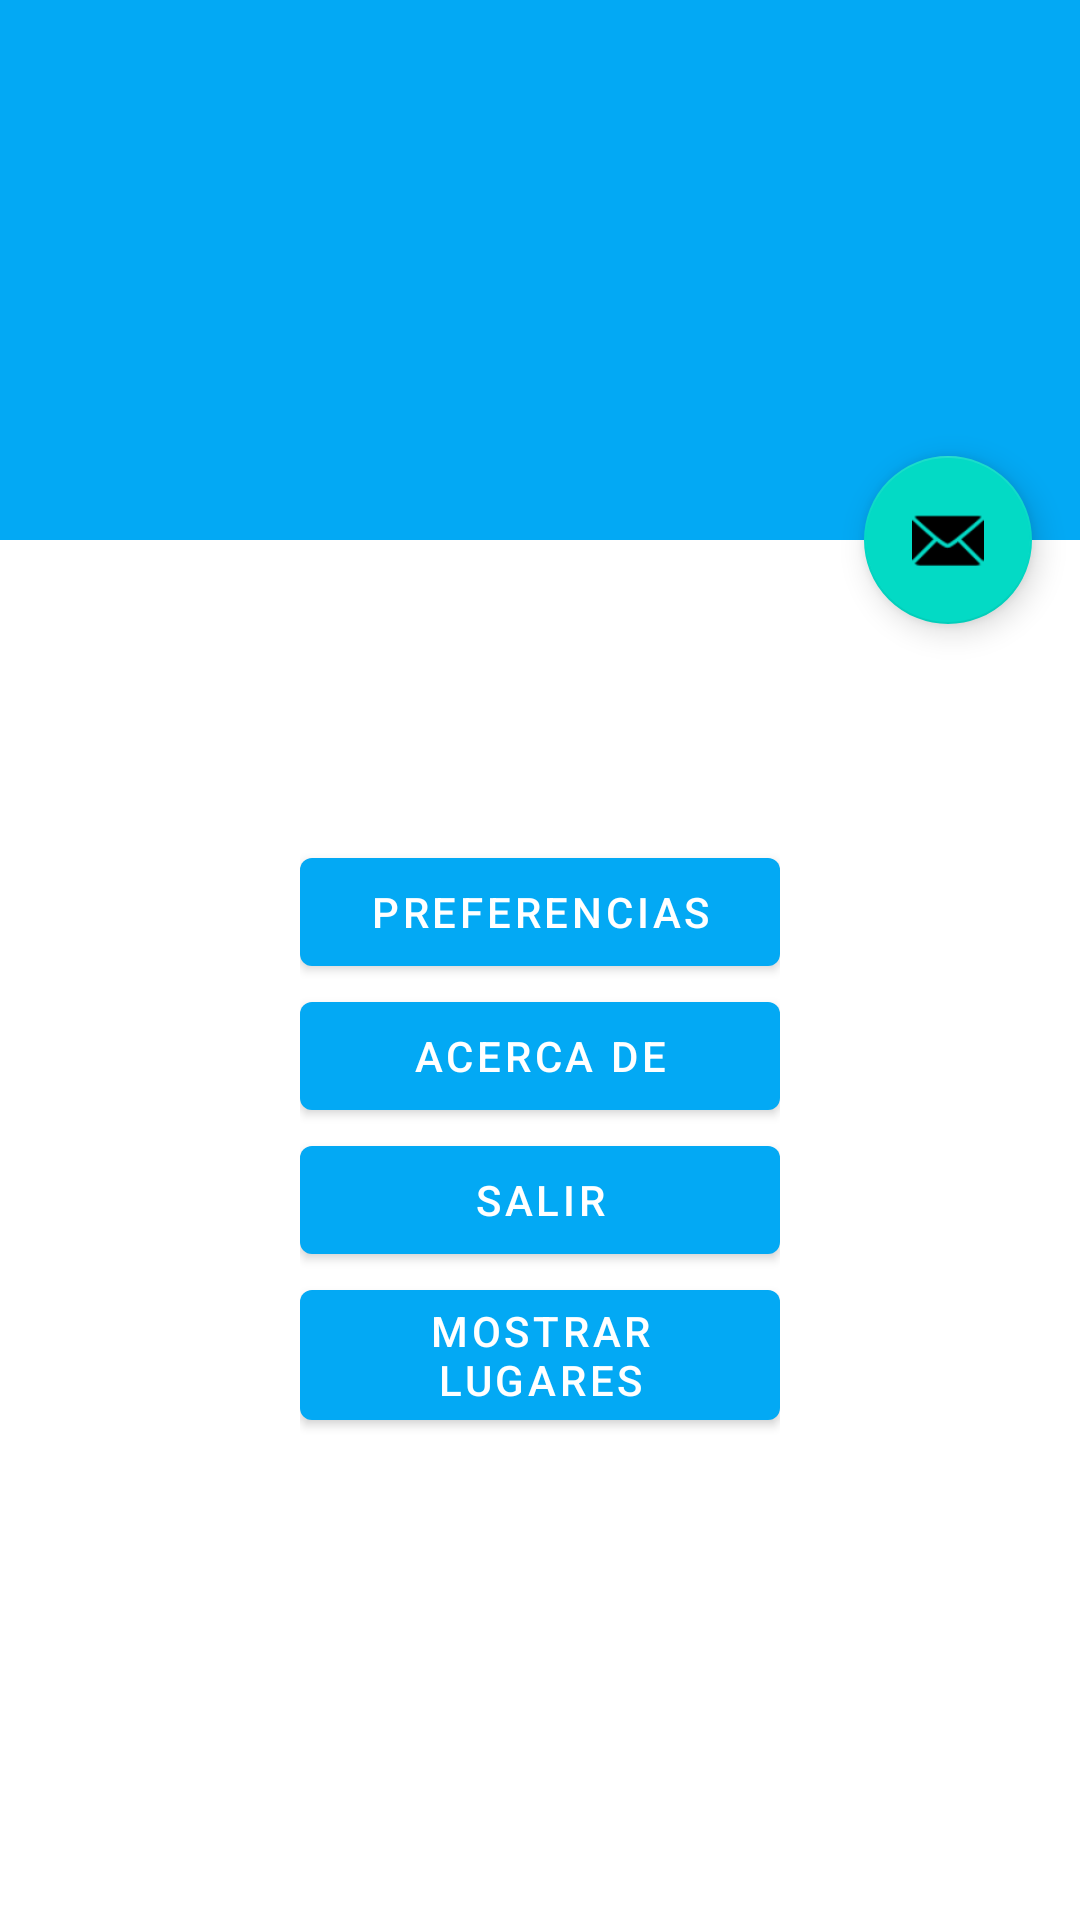

Icons on this 1080w x 1920h Android screen, each with the point to tap as point (x, y):
email: point (948, 540)
